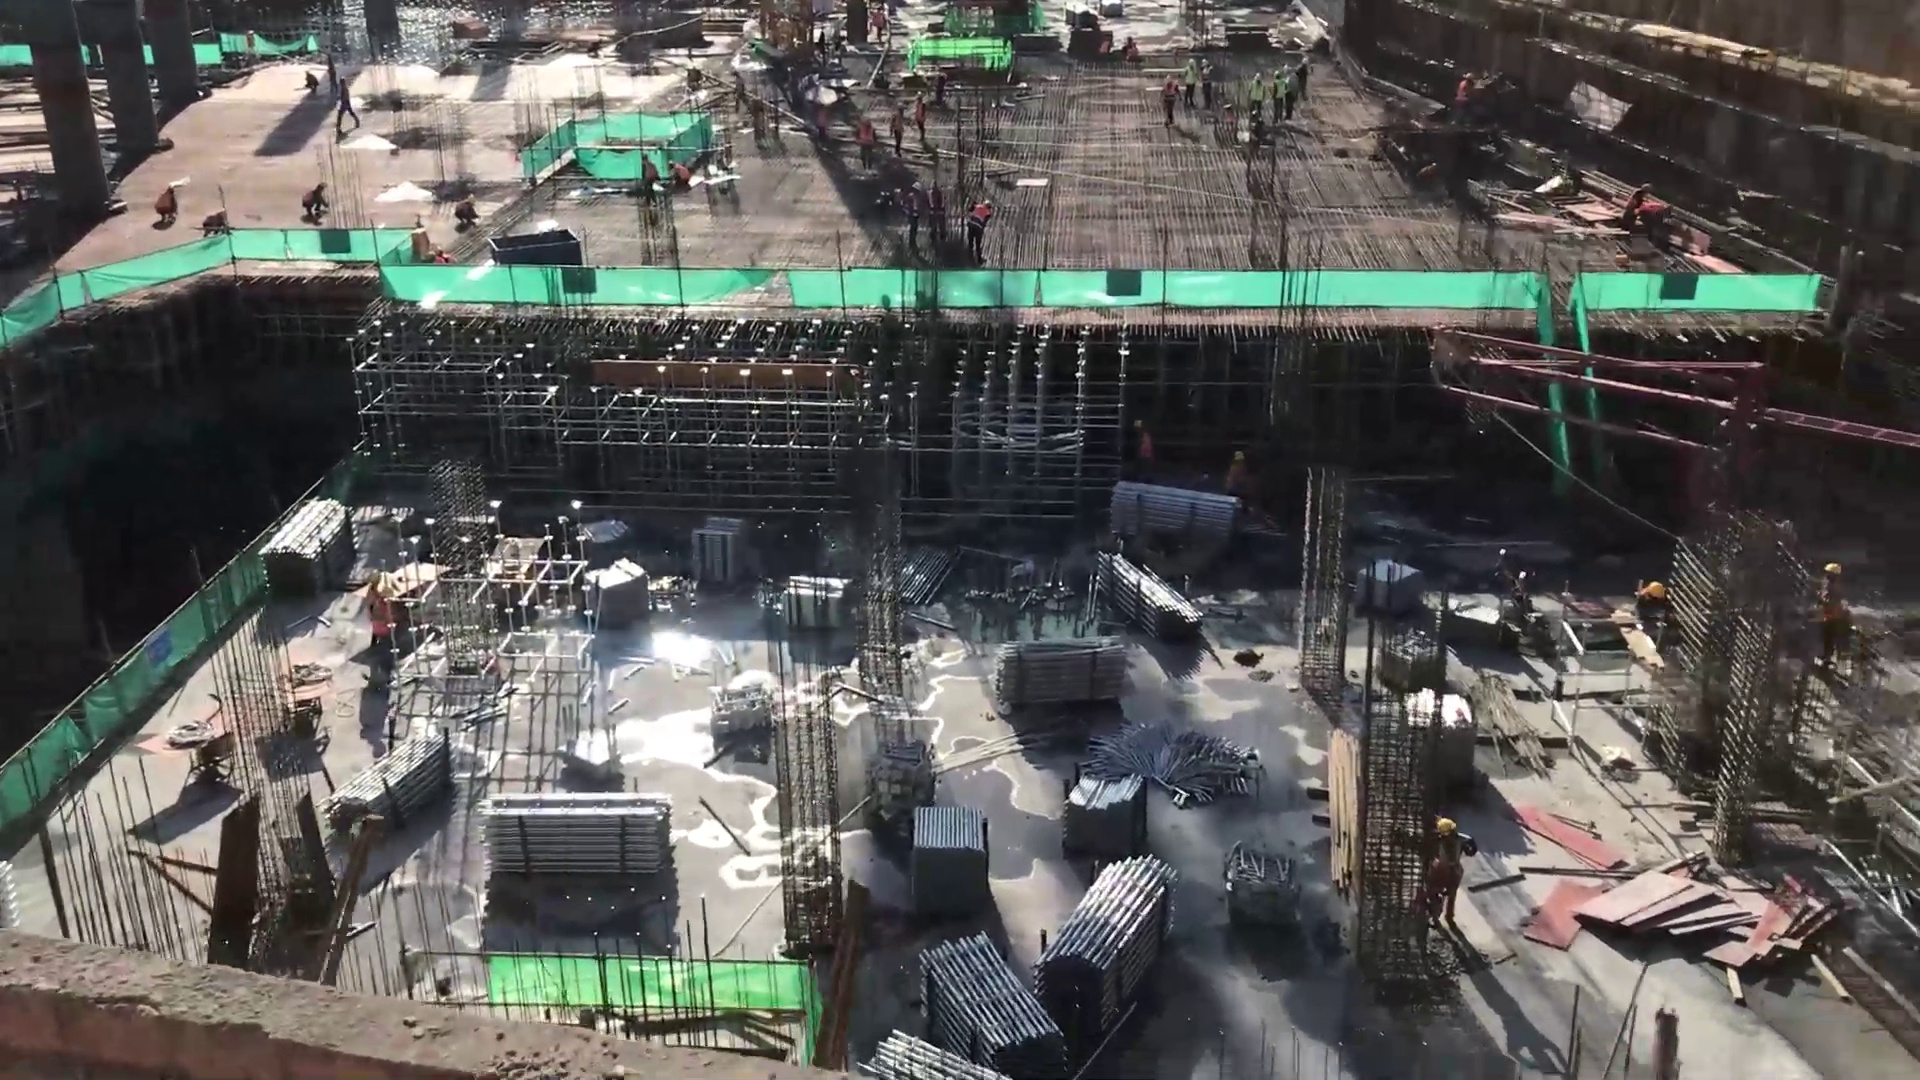board: (1581, 866, 1739, 938)
helmet: (1437, 818, 1457, 833), (1648, 582, 1664, 597)
person: (1816, 558, 1850, 681), (363, 564, 396, 688), (1432, 815, 1465, 934), (964, 192, 995, 265), (1129, 418, 1159, 484), (1220, 449, 1252, 504), (147, 179, 181, 230), (1625, 172, 1650, 239), (335, 77, 359, 143), (637, 152, 662, 210), (905, 178, 922, 253), (298, 184, 333, 220), (1640, 581, 1671, 623), (927, 178, 945, 244), (1451, 68, 1476, 115), (888, 98, 906, 160), (452, 194, 482, 230), (728, 68, 748, 122), (1266, 67, 1284, 123), (1159, 72, 1177, 126), (859, 117, 877, 170), (1198, 54, 1215, 111), (1283, 65, 1298, 128), (1179, 56, 1196, 106), (1295, 55, 1313, 102), (666, 157, 690, 192), (1247, 71, 1265, 120), (913, 92, 929, 141), (300, 70, 321, 96), (1119, 34, 1135, 61)
scaffold: (1047, 850, 1181, 1016), (479, 789, 685, 876), (928, 933, 1055, 1064), (1097, 542, 1213, 651), (338, 735, 456, 818), (1000, 637, 1133, 706), (1065, 769, 1154, 860), (270, 491, 351, 585), (915, 796, 994, 893), (865, 1023, 996, 1080), (580, 559, 646, 619), (692, 514, 746, 582), (903, 547, 953, 601)
vest: (969, 204, 989, 232)
wood: (1332, 731, 1363, 893)
